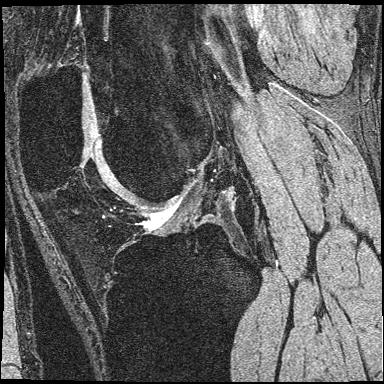SagKneeJointArea: (18, 64, 263, 319)
